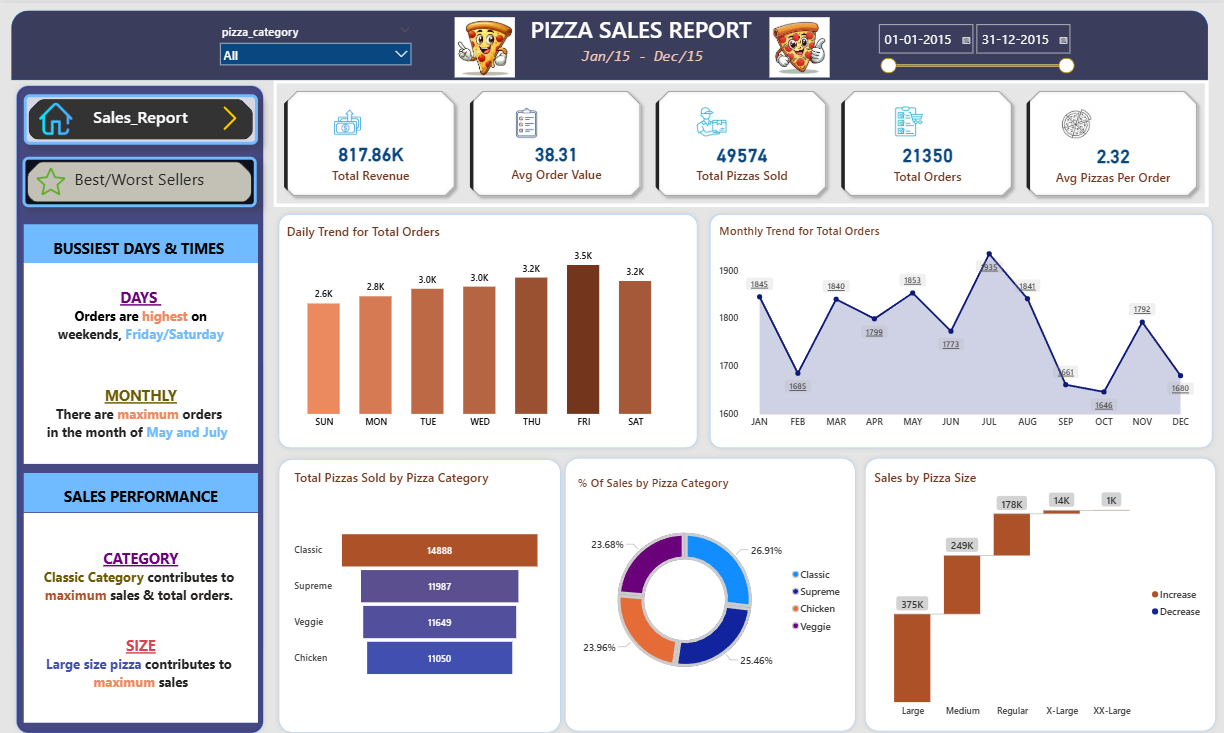

The page's visual inventory and layout, read from the dashboard file:
{"tool":"powerbi","page":{"name":"Sales_Report","canvas":[2000,1200],"ordinal":0},"visuals":[{"type":"shape","box":[18,126,420,1074],"z":0},{"type":"cardVisual","fields":{"Data":["pizza pizza_sales.Total Revenue","pizza pizza_sales.Avg Order Value","pizza pizza_sales.Total Pizzas Sold","pizza pizza_sales.Total Orders","pizza pizza_sales.Avg Pizzas Per Order"]},"box":[446,126,1526,206],"z":1000},{"type":"shape","box":[18,12,1954,114],"z":2000},{"type":"textbox","box":[862,12,376,60],"z":3000},{"type":"textbox","box":[922,68,252,48],"z":4000},{"type":"image","box":[732,18,118,108],"z":5000},{"type":"image","box":[1248,18,112,108],"z":6000},{"type":"shape","box":[446.4,335.8,699.7,398.1],"z":7000},{"type":"columnChart","title":"Daily Trend for Total Orders","fields":{"Y":["pizza pizza_sales.Total Orders"],"Category":["pizza pizza_sales.Order Day"]},"box":[462.5,359.9,641.4,345.8],"z":8000},{"type":"shape","box":[1150.1,335.8,836.5,398.1],"z":9000},{"type":"areaChart","title":"Monthly Trend for Total Orders","fields":{"Category":["pizza pizza_sales.Order Month"],"Y":["pizza pizza_sales.Total Orders"]},"box":[1170.2,359.9,788.2,345.8],"z":10000},{"type":"shape","box":[914.9,733.9,490.6,462.5],"z":11000},{"type":"shape","box":[1403.5,733.9,589.1,462.5],"z":12000},{"type":"donutChart","title":"% Of Sales by Pizza Category","fields":{"Category":["pizza pizza_sales.pizza_category"],"Y":["pizza pizza_sales.Total Revenue"]},"box":[939,770.1,446.4,390.1],"z":13000},{"type":"waterfallChart","title":"Sales by Pizza Size","fields":{"Category":["pizza pizza_sales.pizza_size"],"Y":["pizza pizza_sales.Total Revenue"]},"box":[1421.6,762.1,550.9,414.2],"z":14000},{"type":"shape","box":[446.4,737.5,476.5,462.5],"z":15000},{"type":"funnel","title":"Total Pizzas Sold by Pizza Category","fields":{"Category":["pizza pizza_sales.pizza_category"],"Y":["pizza pizza_sales.Total Pizzas Sold"]},"box":[474.5,762.1,412.2,414.2],"z":16000},{"type":"textbox","box":[38,362,382,64],"z":17000},{"type":"textbox","box":[38,424,382,328],"z":18000},{"type":"textbox","box":[38,768,382,64],"z":19000},{"type":"textbox","box":[38,832,382,342],"z":20000},{"type":"slicer","fields":{"Values":["pizza pizza_sales.order_date"]},"box":[1422,24,340,92],"z":21000},{"type":"pageNavigator","box":[38,148,382,82],"z":22000},{"type":"pageNavigator","box":[36,250,382,82],"z":23000},{"type":"slicer","fields":{"Values":["pizza pizza_sales.pizza_category"]},"box":[348,28,332,88],"z":24000},{"type":"image","box":[348,164,52,50],"z":25000},{"type":"image","box":[56,158,72,64],"z":26000},{"type":"image","box":[56,264,56,56],"z":27000}]}

Visuals, with their boxes in screenshot pixels (x1, y1, x2, y2), scaled from the page's 2000x1200 canvas onto the 1224x733 screenshot:
shape: 11,77,268,732
cardVisual - pizza pizza_sales.Total Revenue x pizza pizza_sales.Avg Order Value: 273,77,1207,203
shape: 11,7,1207,77
textbox: 528,7,758,44
textbox: 564,42,718,71
image: 448,11,520,77
image: 764,11,832,77
shape: 273,205,701,448
"Daily Trend for Total Orders" columnChart: 283,220,676,431
shape: 704,205,1216,448
"Monthly Trend for Total Orders" areaChart: 716,220,1199,431
shape: 560,448,860,731
shape: 859,448,1219,731
"% Of Sales by Pizza Category" donutChart: 575,470,848,709
"Sales by Pizza Size" waterfallChart: 870,466,1207,719
shape: 273,450,565,732
"Total Pizzas Sold by Pizza Category" funnel: 290,466,543,719
textbox: 23,221,257,260
textbox: 23,259,257,459
textbox: 23,469,257,508
textbox: 23,508,257,717
slicer - pizza pizza_sales.order_date: 870,15,1078,71
pageNavigator: 23,90,257,140
pageNavigator: 22,153,256,203
slicer - pizza pizza_sales.pizza_category: 213,17,416,71
image: 213,100,245,131
image: 34,97,78,136
image: 34,161,69,195
